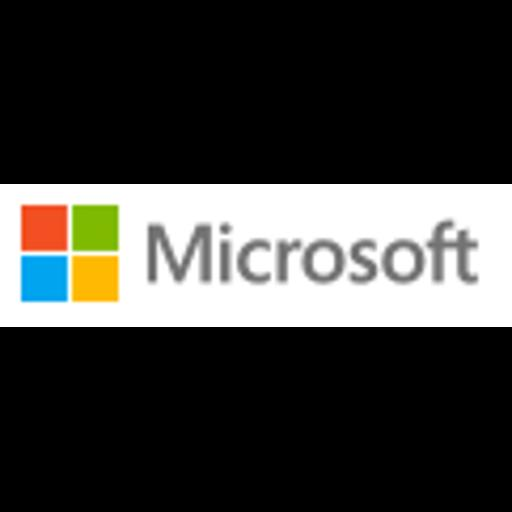Outlook: (0, 184, 512, 327)
